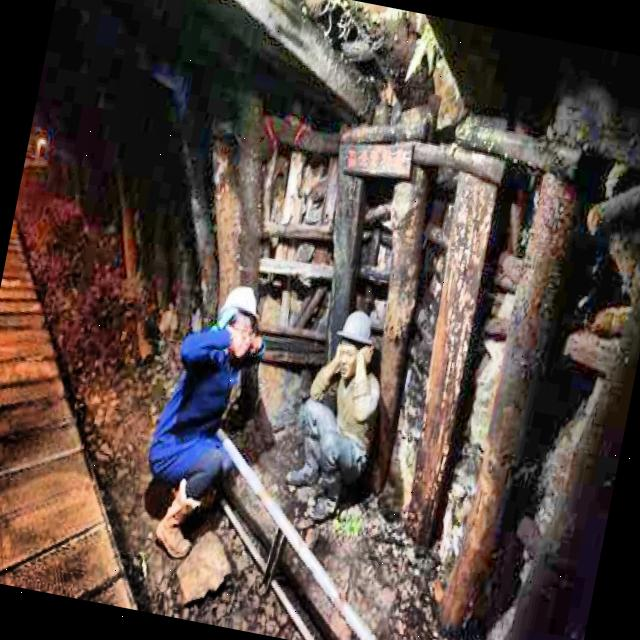helmet: (215, 280, 268, 352), (331, 308, 378, 377)
